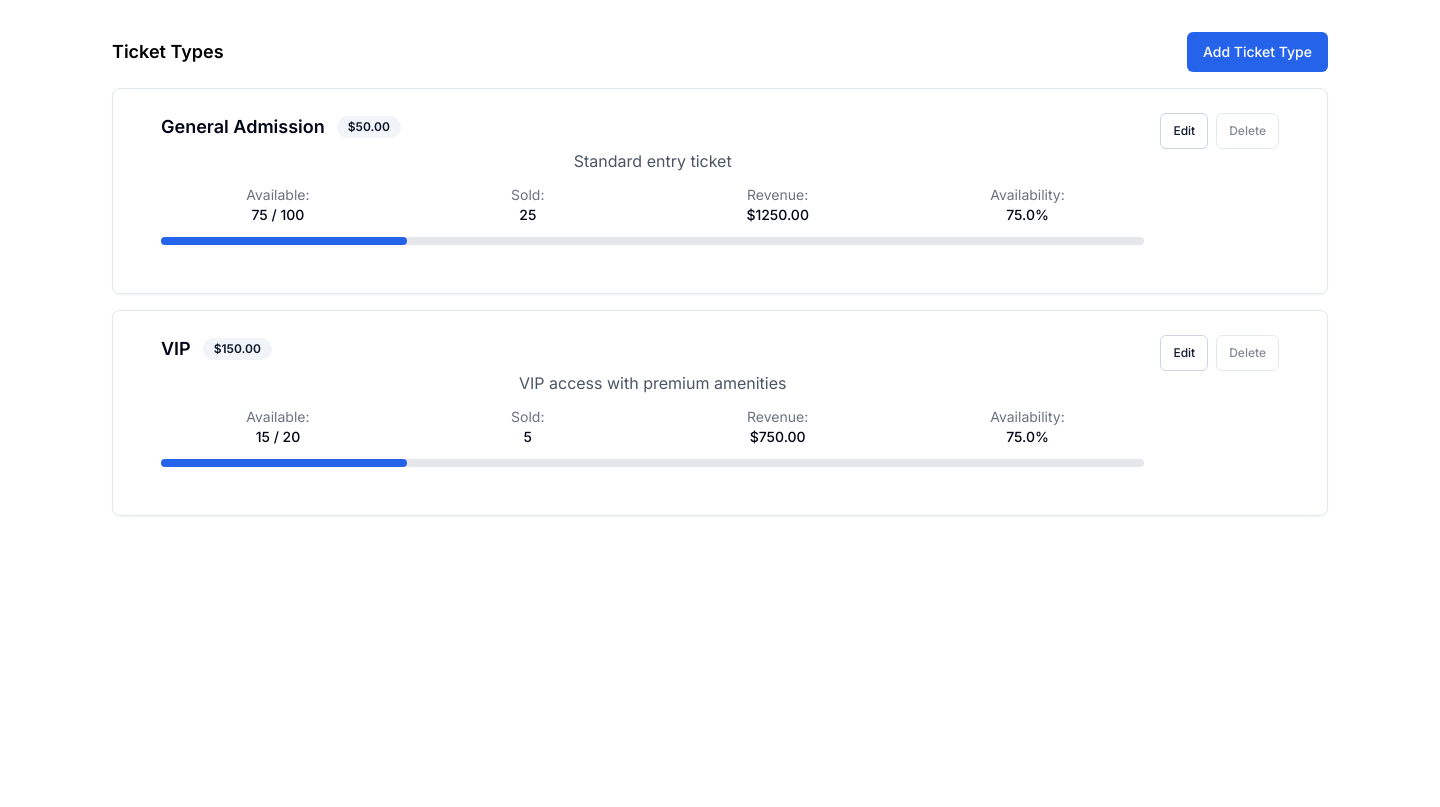
Test case: TicketTypesSection › opens edit ticket type form
This screenshot has width=1440, height=807.
Click the button "Edit" in the row of "General Admission" at (1184,131), box [1160,113,1208,149]
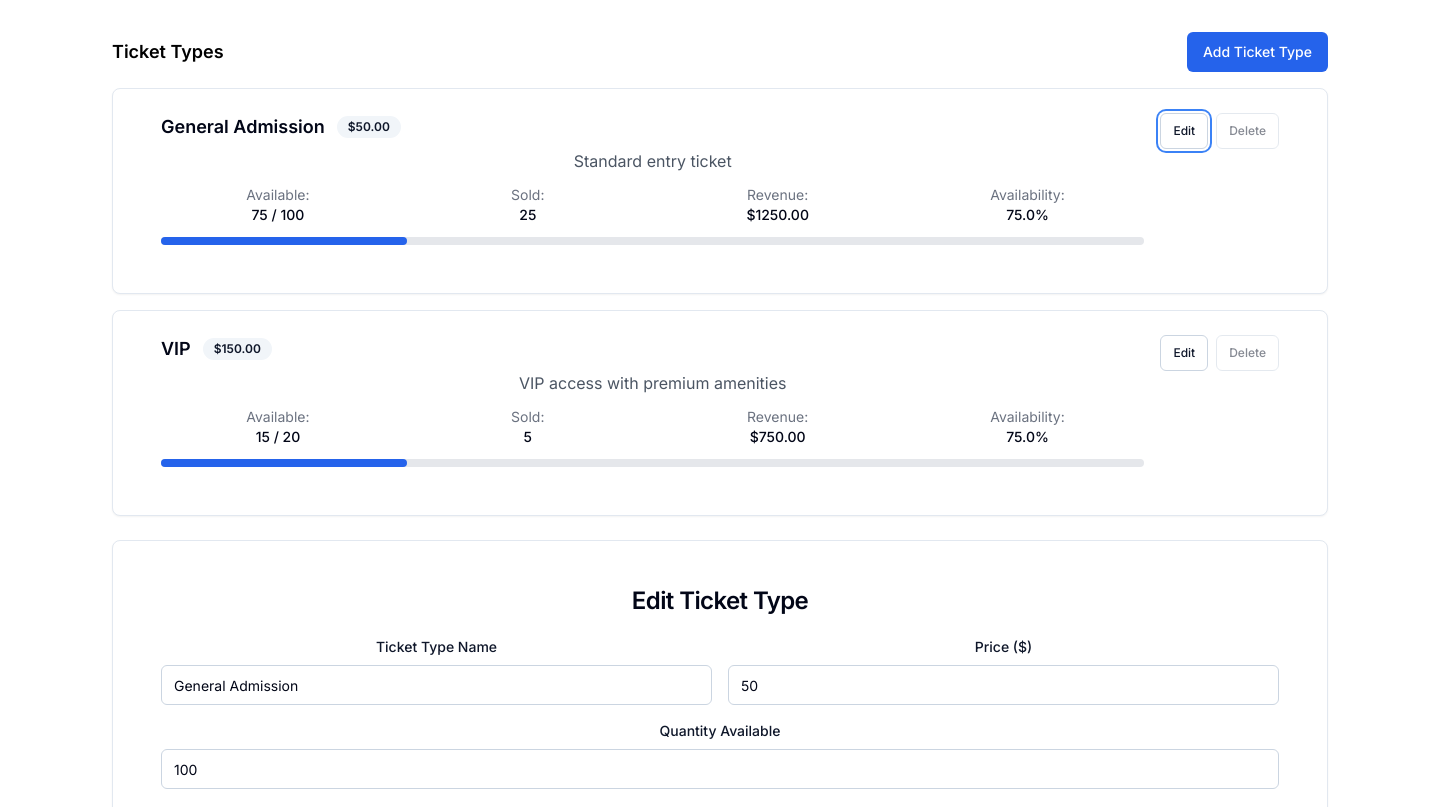
Result: the heading "Edit Ticket Type" is shown at [632,586,808,615]
Result: the field showing "General Admission" is shown at [161,665,712,705]
Result: the number field showing "50" is shown at [728,665,1279,705]
